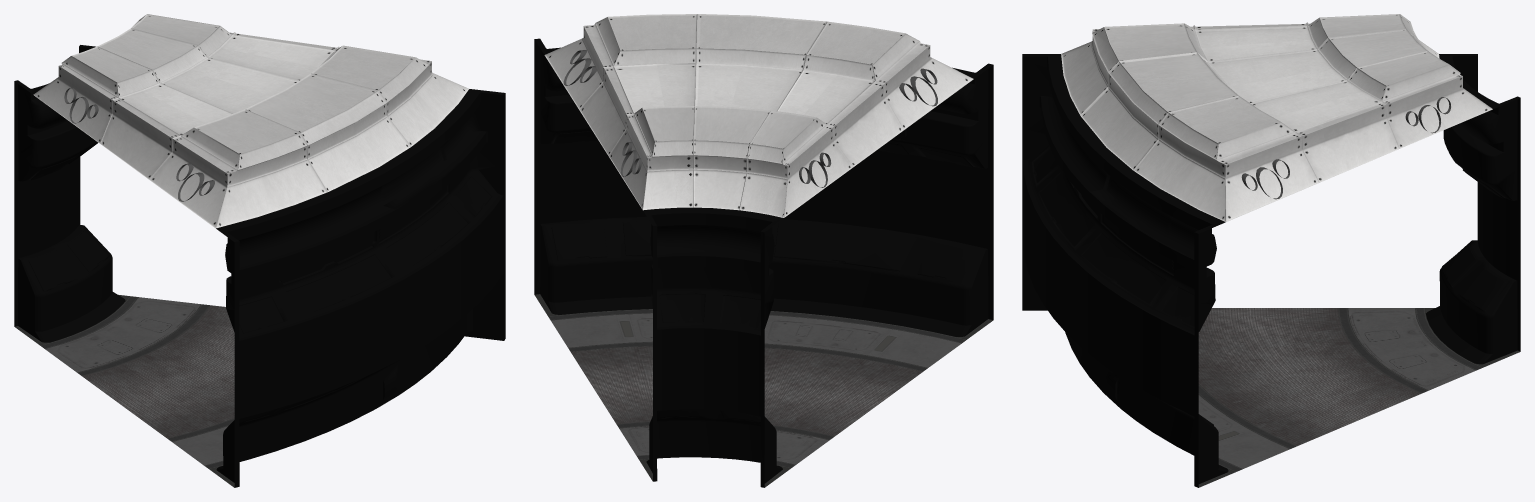
File: HallwayCornerC.fbx
The picture shows the model from 3 angles, left to right: view 1: azimuth 30°, elevation 25°; view 2: azimuth 150°, elevation 25°; view 3: azimuth 270°, elevation 25°; orthographic projection. The views are drawn at different scales.
Visible parts, largest first — view 1: HallwayCornerC001; view 2: HallwayCornerC001; view 3: HallwayCornerC001.
Part boxes in pixels (x1,y1,x2,y2): HallwayCornerC001: [14, 14, 505, 487]; HallwayCornerC001: [534, 14, 993, 487]; HallwayCornerC001: [1022, 14, 1520, 487].
Bounding box in the file's own units: 607 × 478 × 711.
